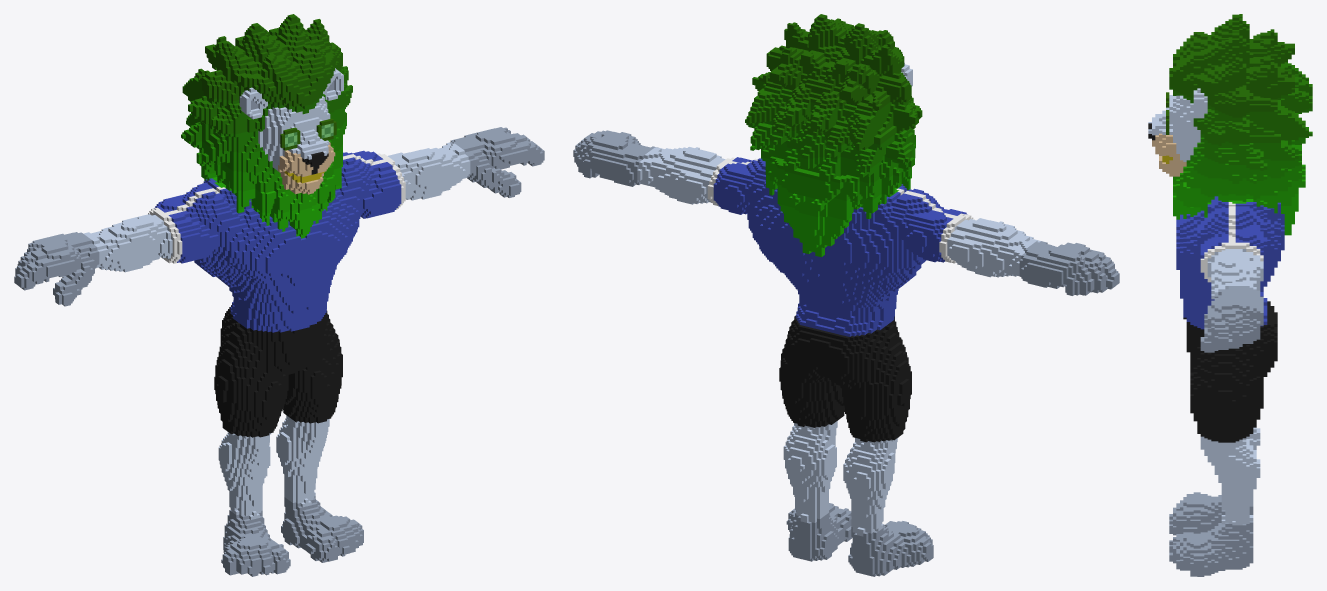
The model's file is 190-CvuyIcux.fbx.
The picture shows the model from 3 angles, left to right: view 1: azimuth 30°, elevation 25°; view 2: azimuth 150°, elevation 25°; view 3: azimuth 270°, elevation 25°; orthographic projection. The views are drawn at different scales.
Parts seen in each view (by area): view 1: gold_smile; view 2: gold_smile; view 3: gold_smile.
Boxes of the visible parts, x1=… form: gold_smile: x1=14, y1=14, x2=544, y2=576; gold_smile: x1=573, y1=14, x2=1119, y2=576; gold_smile: x1=1148, y1=14, x2=1312, y2=576.
Bounding box in the file's own units: 17.2 × 16.5 × 4.7.
Materials: 5 (5 with a texture image).
